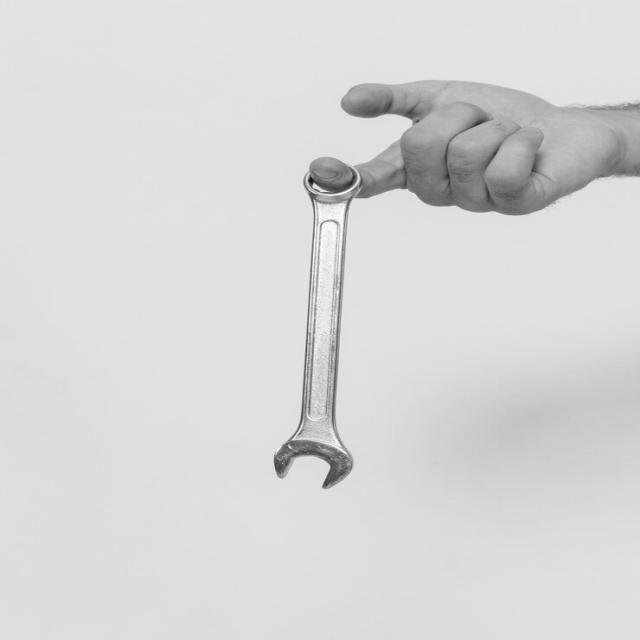wrench: (152, 118, 424, 556)
